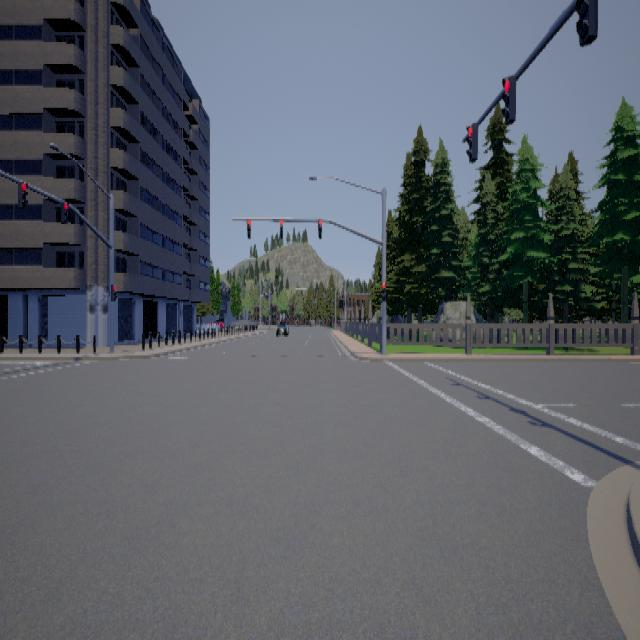red_light: (500, 74, 515, 123), (465, 121, 477, 162), (17, 180, 27, 207), (60, 200, 68, 222), (110, 283, 116, 300), (318, 218, 322, 238), (248, 218, 252, 238), (381, 281, 385, 300), (280, 218, 283, 238)
traffic_light: (575, 0, 597, 45)
vehicle: (275, 317, 288, 335)
